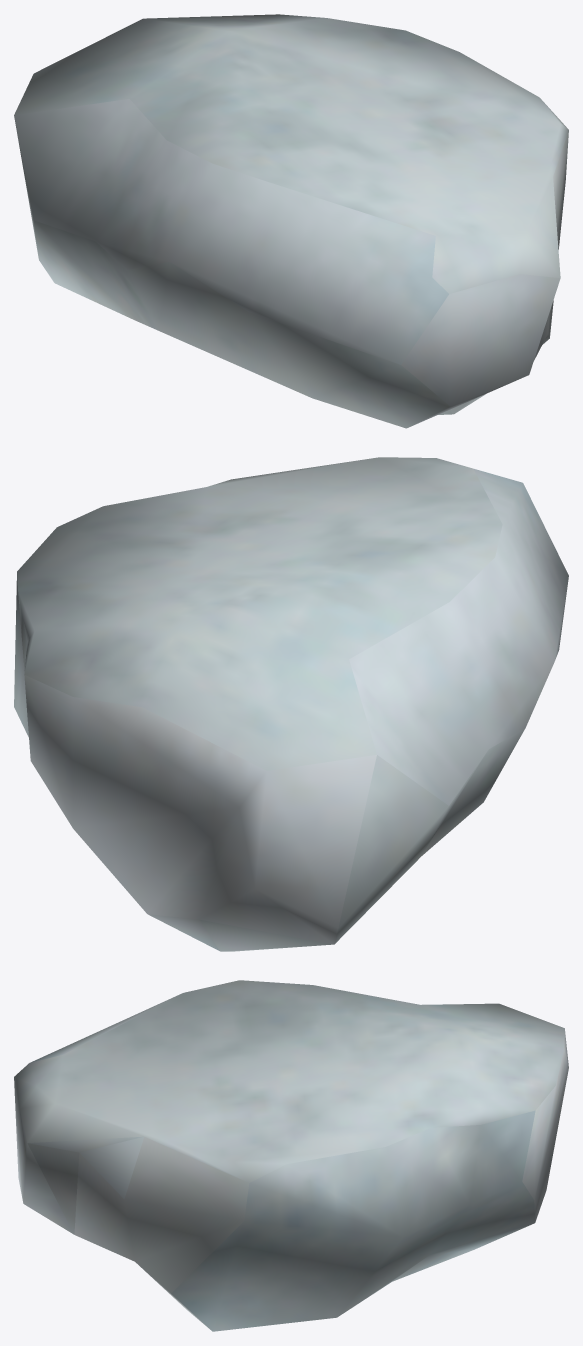
The model's file is P_RockClassic6.obj.
3 renders of one model, top to bottom at view 1: azimuth 30°, elevation 25°; view 2: azimuth 150°, elevation 25°; view 3: azimuth 270°, elevation 25°, orthographic. The views are drawn at different scales.
Size of the model in its own units: 1.87 by 1.19 by 2.42.
